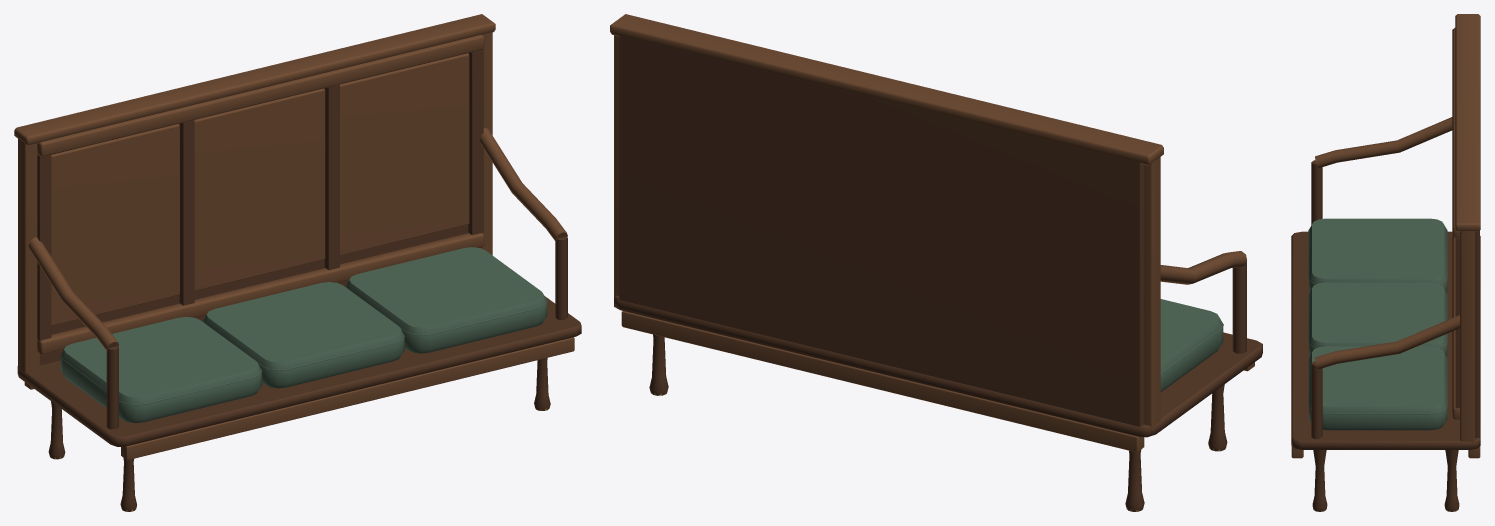
File: rpg-mansion-high-back-settle-three-01.glb
The picture shows the model from 3 angles, left to right: view 1: azimuth 30°, elevation 25°; view 2: azimuth 150°, elevation 25°; view 3: azimuth 270°, elevation 25°; orthographic projection. The views are drawn at different scales.
Parts seen in each view (by area): view 1: rpg-mansion-high-back-settle-three-01; view 2: rpg-mansion-high-back-settle-three-01; view 3: rpg-mansion-high-back-settle-three-01.
Boxes of the visible parts, box(x1,y1,x2,y2) form: rpg-mansion-high-back-settle-three-01: box(14, 14, 581, 511); rpg-mansion-high-back-settle-three-01: box(610, 14, 1262, 511); rpg-mansion-high-back-settle-three-01: box(1291, 14, 1480, 511).
Size of the model in its own units: 2 by 1.32 by 0.76.
